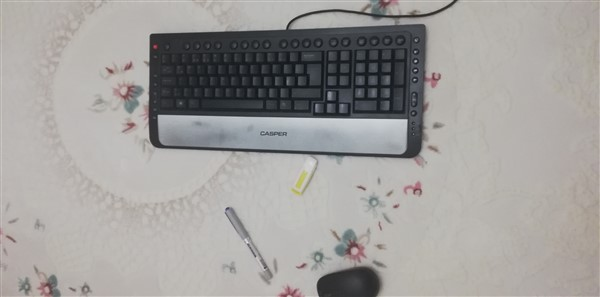flash disk: (289, 155, 323, 196)
klavye: (149, 31, 426, 159)
mouse: (316, 266, 382, 297)
pilot kalem: (220, 207, 276, 281)
